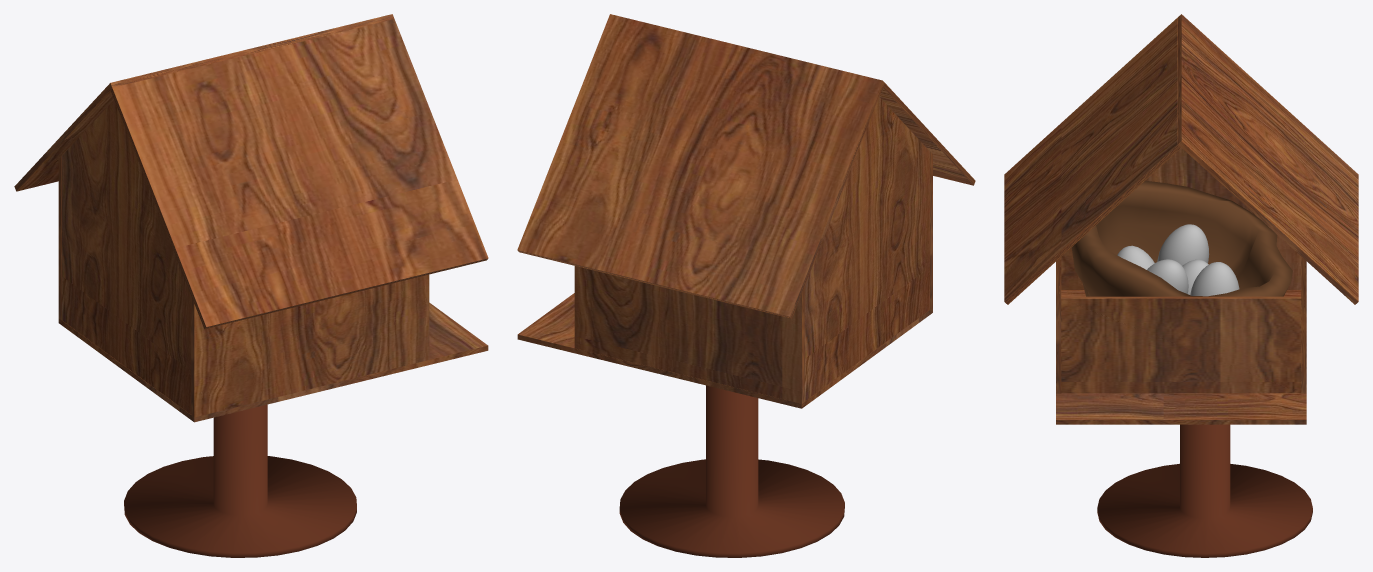
3 renders of one model, left to right at view 1: azimuth 30°, elevation 25°; view 2: azimuth 150°, elevation 25°; view 3: azimuth 270°, elevation 25°, orthographic. The views are drawn at different scales.
Parts seen in each view (by area): view 1: Cube.003, Cube.005, Cylinder, Cube.001, Cube, Cube.004, Cube.002; view 2: Cube.004, Cube.005, Cylinder, Cube.002, Cube, Cube.003; view 3: Cube.004, Cube.006, Cube.003, Cylinder, Sphere.001, Cube, Cube.005, Sphere.005, Sphere.004, Sphere.003, Cube.002, Cube.001 (+1 smaller).
Boxes of the visible parts, box(x1,y1,x2,y2) form: Cube.003: box(110, 19, 488, 329); Cube.005: box(61, 100, 191, 414); Cylinder: box(124, 404, 356, 557); Cube.001: box(191, 274, 429, 417); Cube: box(58, 302, 488, 422); Cube.004: box(14, 14, 394, 191); Cube.002: box(58, 156, 61, 319); Cube.004: box(517, 14, 884, 318); Cube.005: box(804, 97, 929, 400); Cylinder: box(619, 385, 844, 557); Cube.002: box(574, 266, 804, 403); Cube: box(517, 293, 932, 408); Cube.003: box(879, 83, 975, 185); Cube.004: box(1178, 14, 1358, 304); Cube.006: box(1061, 296, 1301, 393); Cube.003: box(1004, 17, 1180, 304); Cylinder: box(1097, 424, 1312, 557); Sphere.001: box(1071, 180, 1292, 296); Cube: box(1056, 290, 1306, 424); Cube.005: box(1061, 148, 1301, 289); Sphere.005: box(1157, 224, 1209, 265); Sphere.004: box(1190, 262, 1239, 296); Sphere.003: box(1147, 259, 1188, 293); Cube.002: box(1301, 257, 1306, 393); Cube.001: box(1056, 257, 1061, 393).
Bounding box in the file's own units: 0.4017 × 0.5823 × 0.4311.
Materials: 4 (1 with a texture image).
